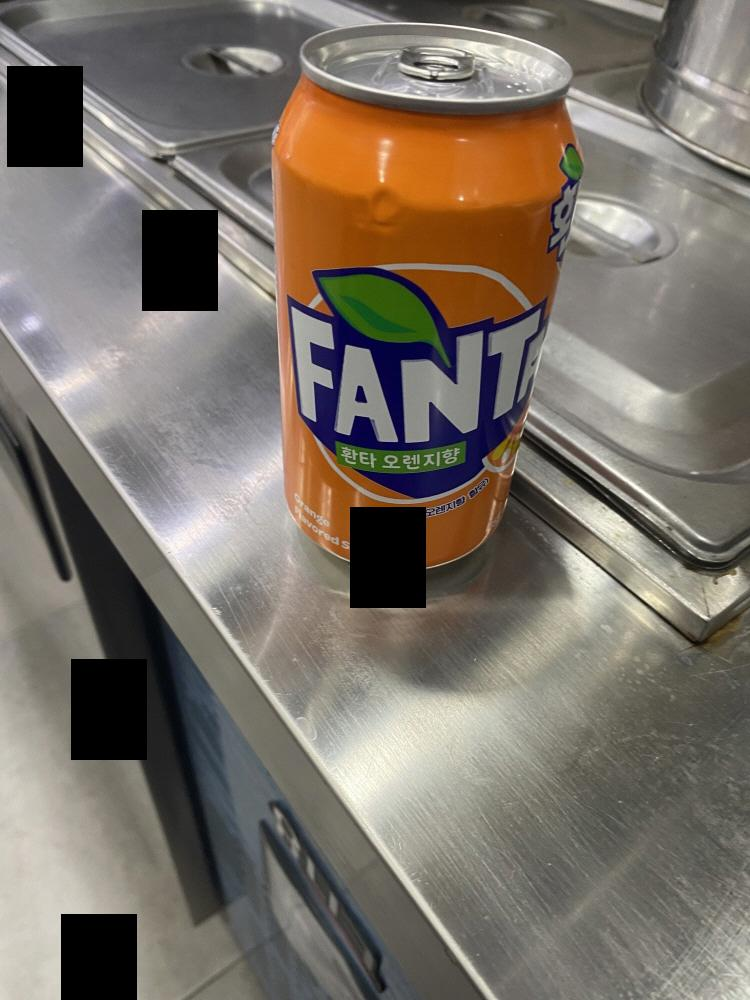fanta_orange: (263, 23, 582, 578)
